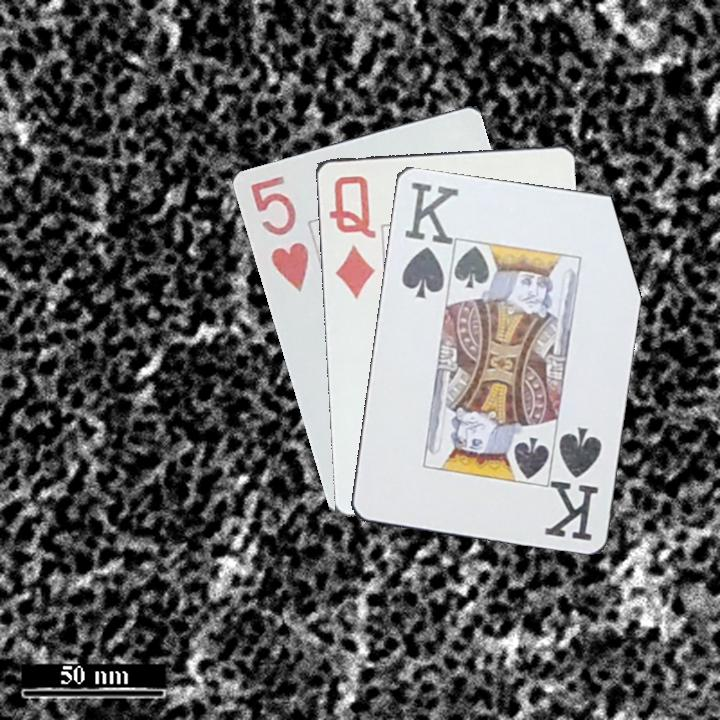5h: (246, 171, 311, 295)
Ks: (397, 177, 458, 301), (544, 423, 605, 544)
Qd: (324, 171, 379, 301)
